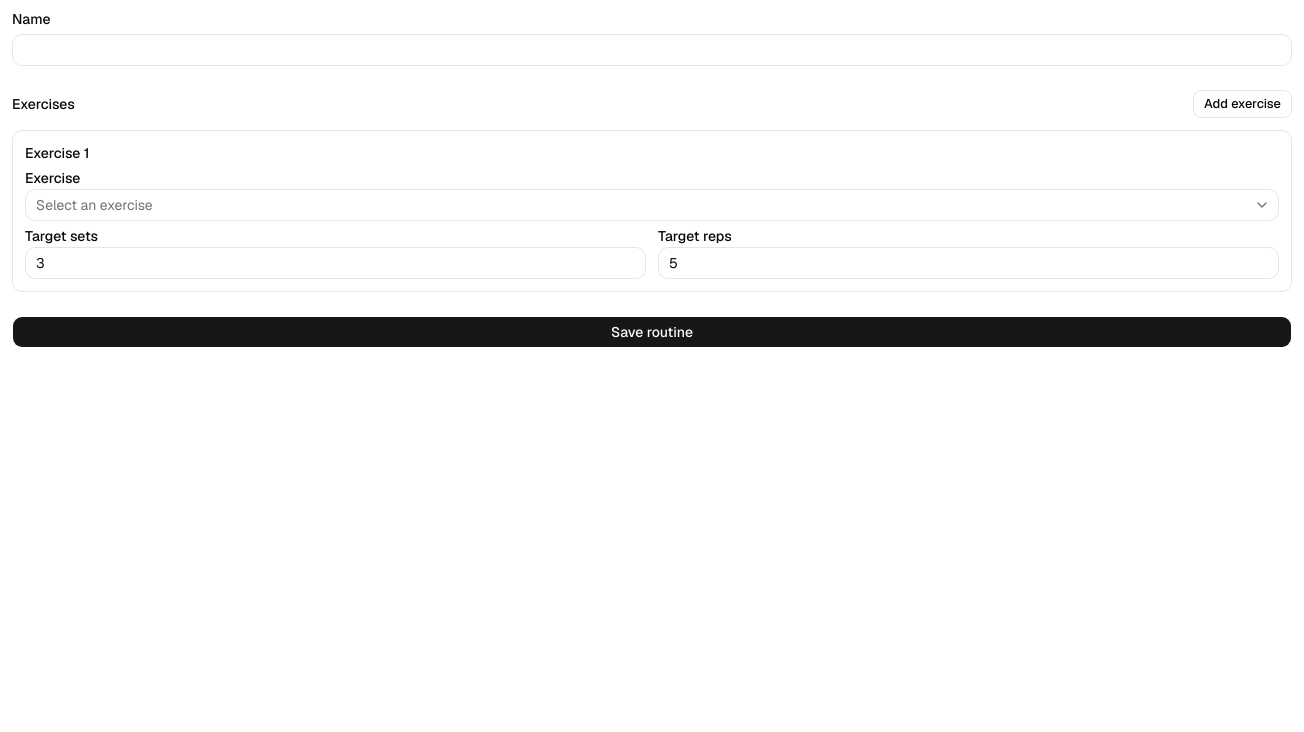
Test case: RoutineForm › supports adding and removing exercises
Click the button "Add exercise" at (1242, 104), box [1193,90,1292,118]
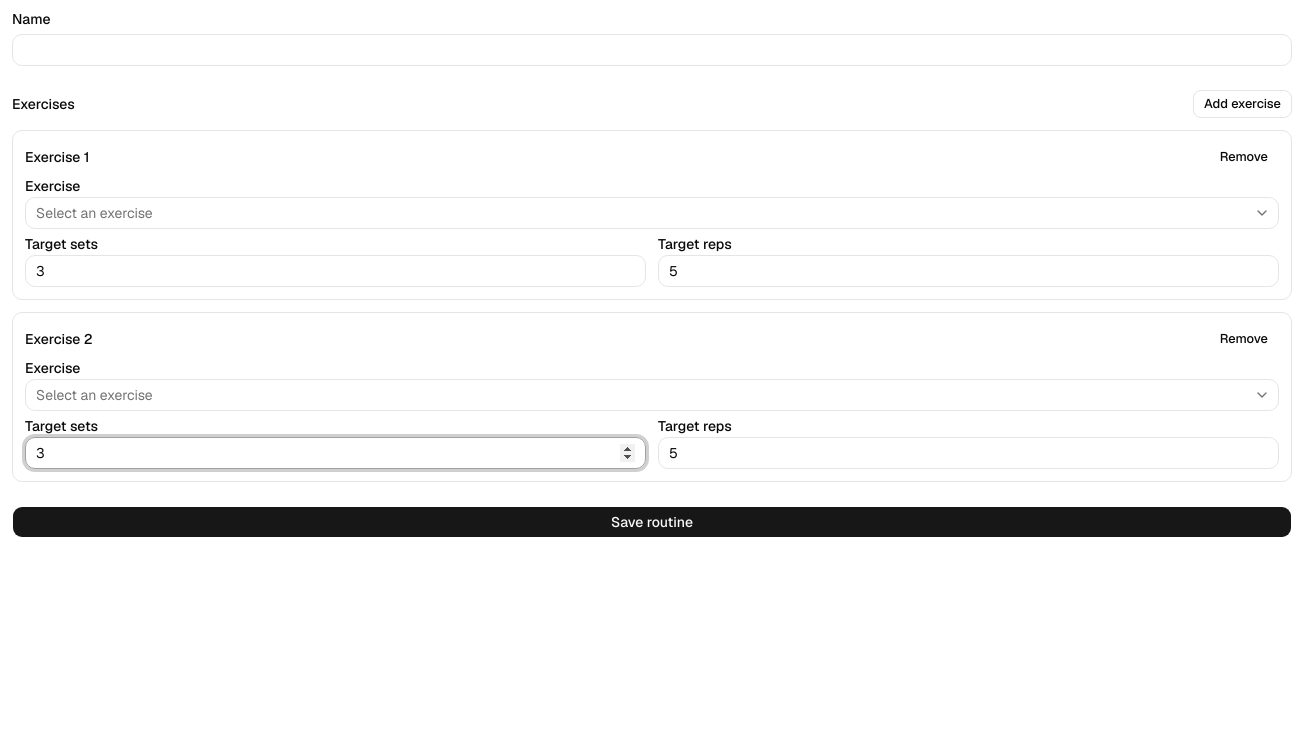
Result: the text "Exercise 1" is shown 2 times at [25,147,90,167]; [25,329,93,349]
Click the button with aria-label "remove exercise 2" at (1244, 339), box [1209,325,1279,353]
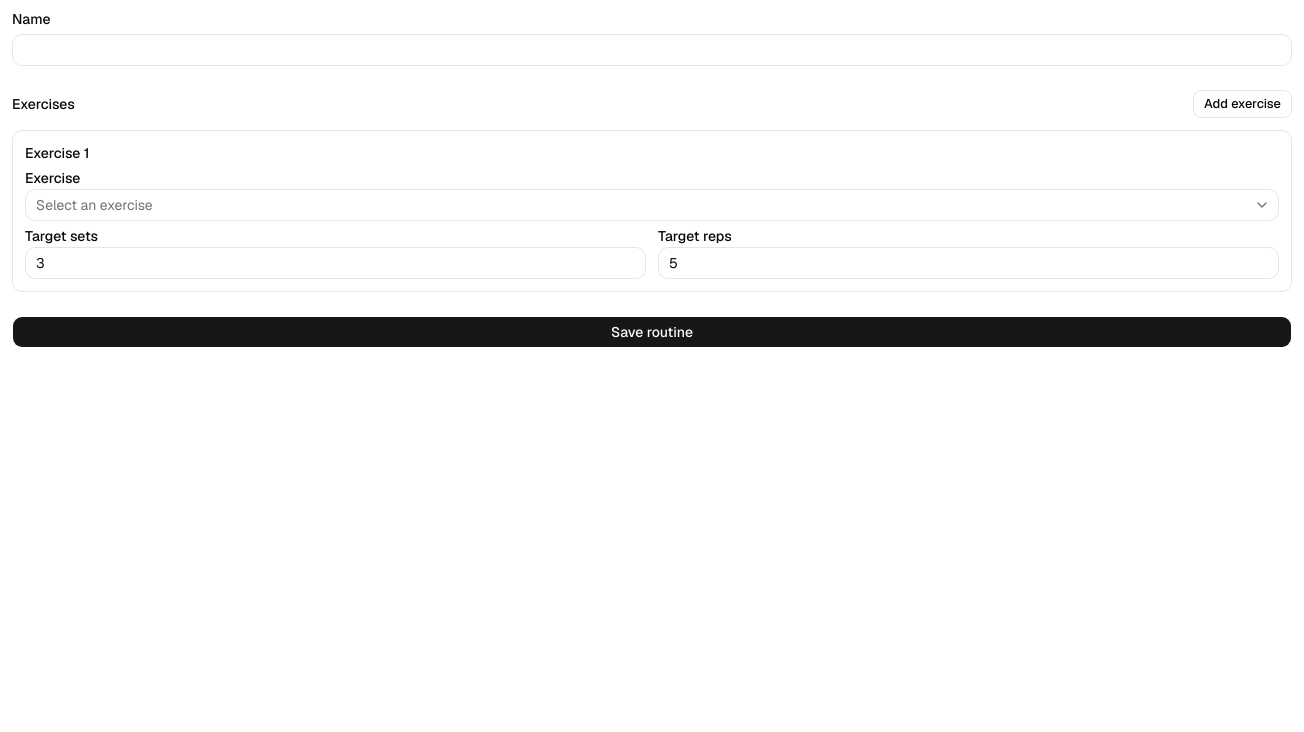
Result: the text "Exercise 1" is shown once at [25,143,90,163]
